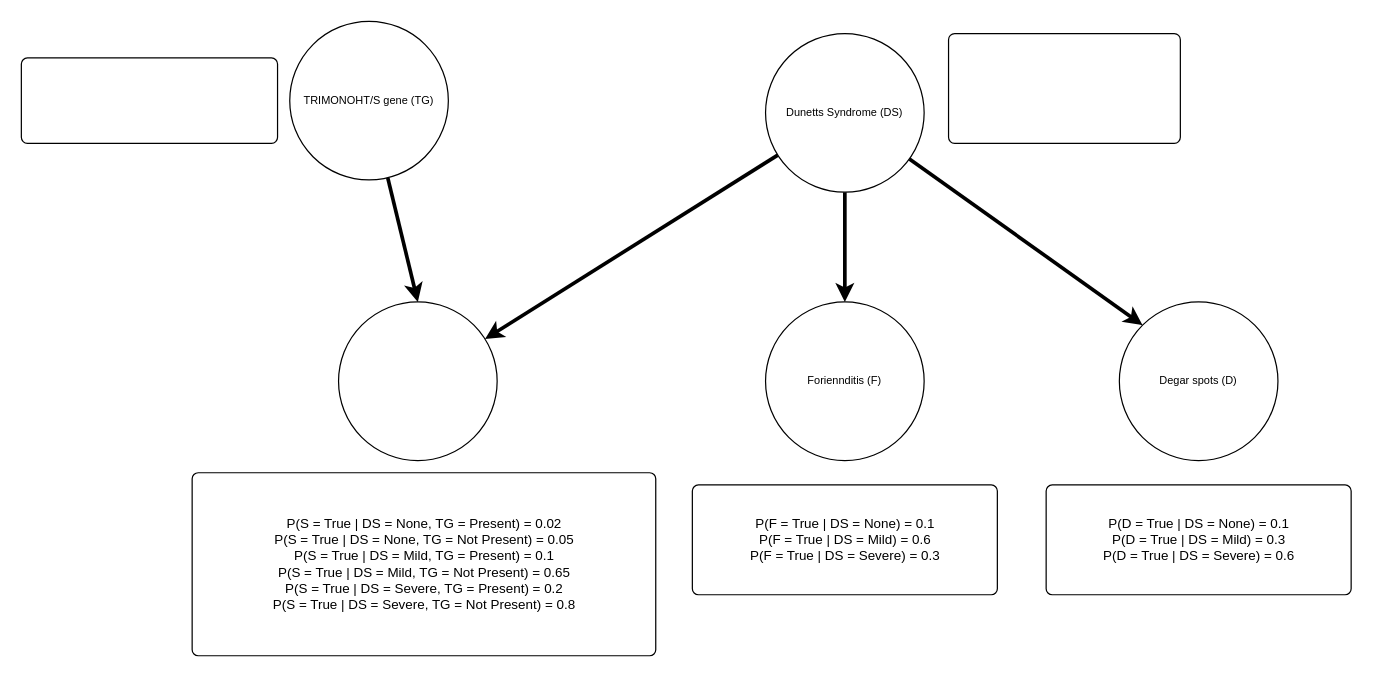
Some shapes in this 1373 by 677 pixel diagram are drawn without their labels. Each missing label, with the centre of its shape:
"P(DS = None) = 0.5 P(DS = Mild) = 0.25 P(DS = Severe) = 0.25" belongs at point 1063,87.
"P(TG = Present) = 0.1 P(TG = Not Present) = 0.9" belongs at point 149,100.
"Sloepnea (S)" belongs at point 417,381.
